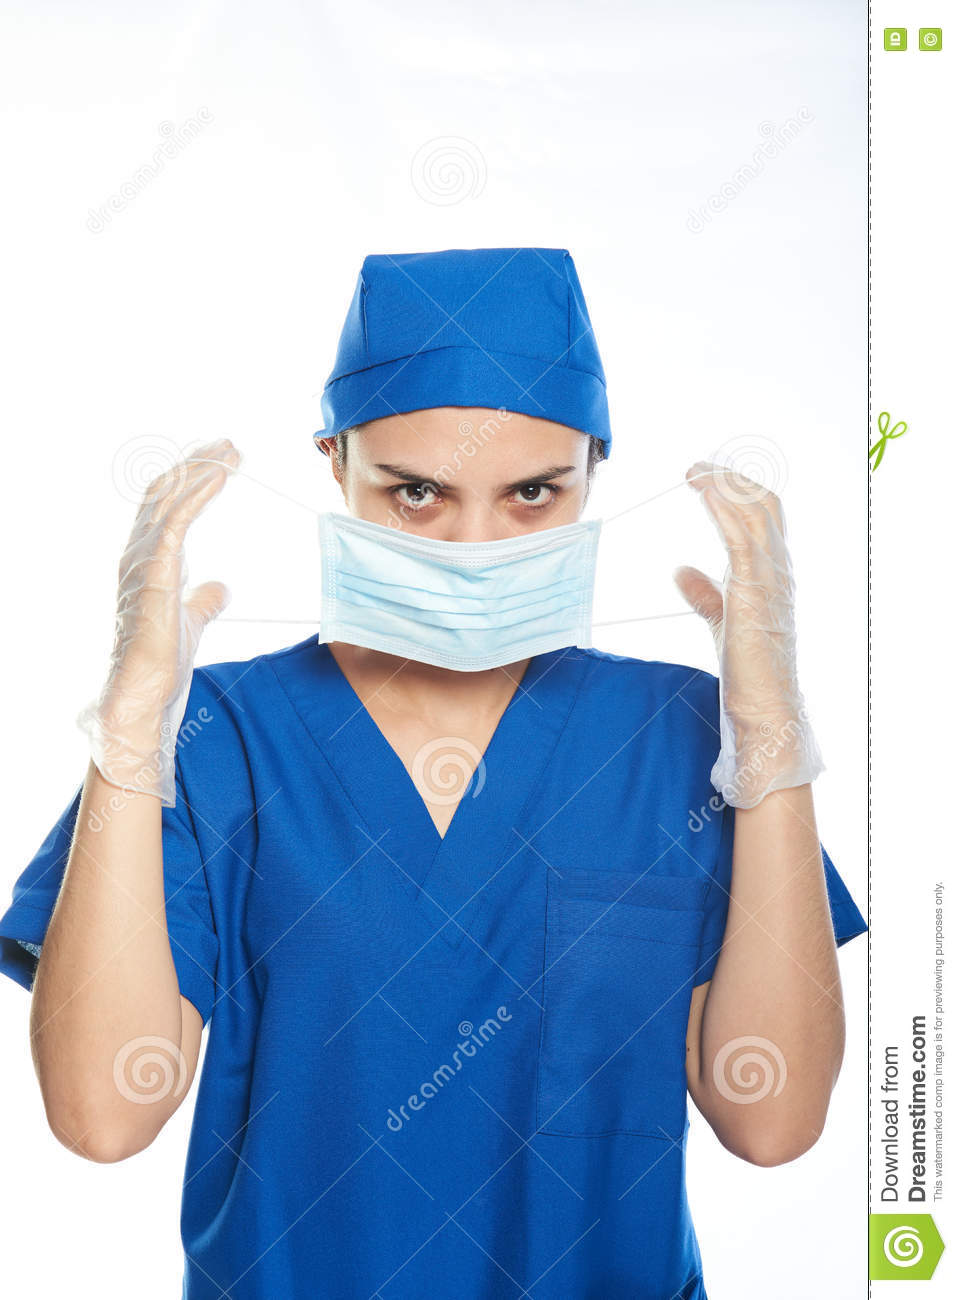mask: (313, 495, 619, 677)
